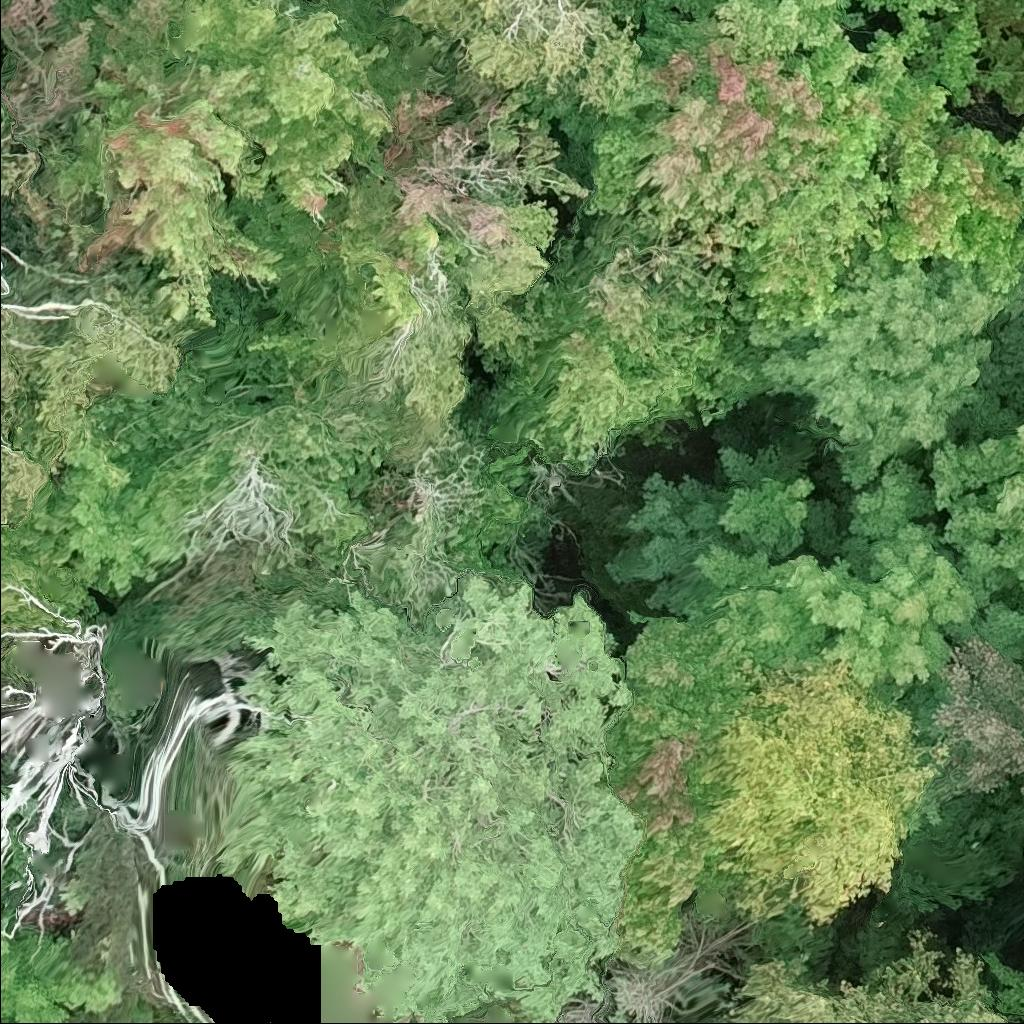crown: (604, 416, 1023, 740), (585, 0, 950, 332), (729, 241, 1023, 491), (697, 661, 953, 919), (606, 606, 763, 961), (384, 0, 640, 114), (881, 114, 1023, 292), (739, 962, 988, 1023), (932, 635, 1023, 795), (860, 0, 985, 110), (617, 0, 719, 39), (999, 128, 1023, 169), (834, 0, 867, 28), (1004, 0, 1023, 16), (1018, 178, 1023, 204), (631, 0, 646, 5), (1018, 781, 1023, 794)
